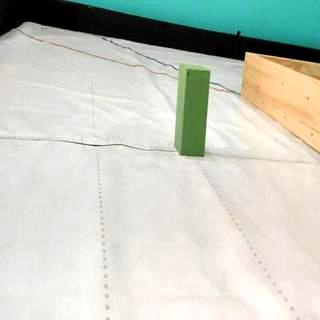greenbox: (177, 62, 210, 156)
